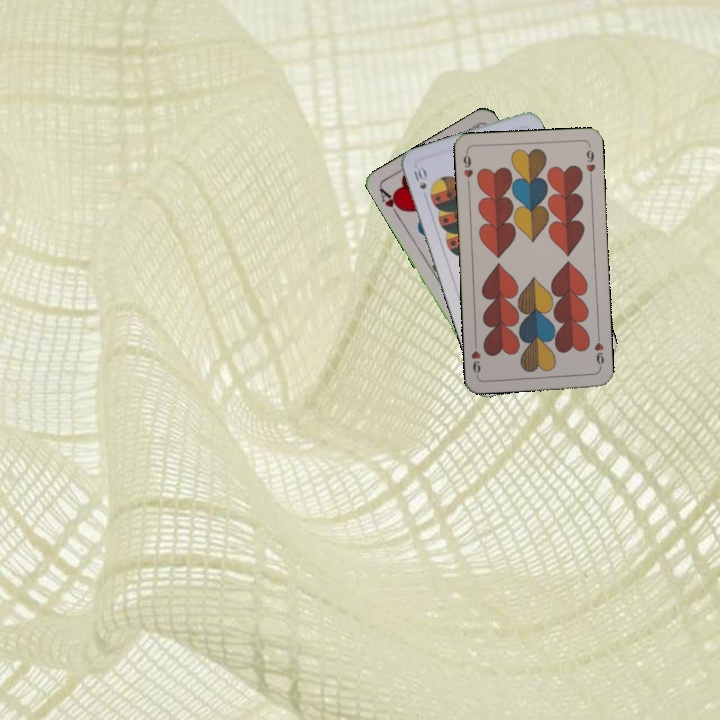H9: (459, 148, 476, 189), (590, 331, 607, 372)
HA: (375, 184, 406, 221)
S10: (410, 163, 429, 192)
